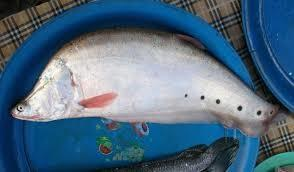Knifefish: (13, 16, 279, 143)
